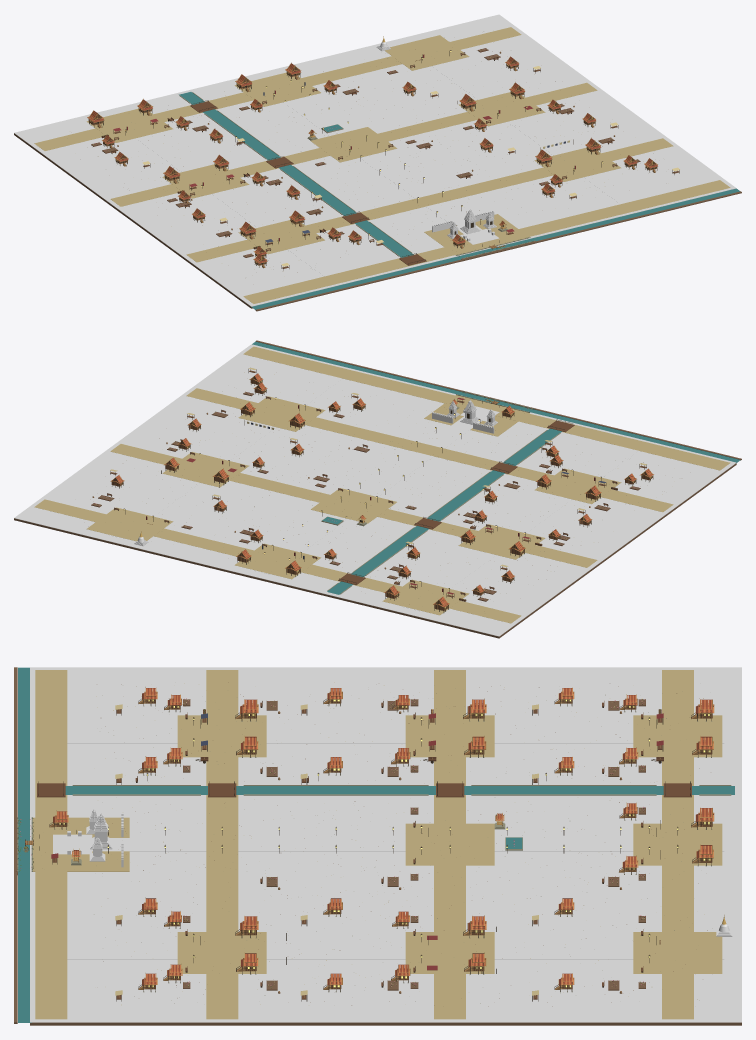
The model's file is lavo.glb.
3 renders of one model, top to bottom at view 1: azimuth 30°, elevation 25°; view 2: azimuth 150°, elevation 25°; view 3: azimuth 270°, elevation 25°, orthographic. The views are drawn at different scales.
Visible parts, largest first — view 1: Expanded ground · meadow, Regional avenues · sand, Regional avenues · paving, City canal · water, River extension · water, District square 4 · sand, District square 6 · sand, District square 7 · sand, District square 1 · sand, District square 3 · sand, District square 2 · sand, District square 0 · sand (+9 smaller); view 2: Expanded ground · meadow, Regional avenues · sand, Regional avenues · paving, City canal · water, Expanded ground · earth, River extension · water, District square 4 · sand, District square 6 · sand, District square 1 · sand, District square 7 · sand, District square 2 · sand, District square 5 · sand (+9 smaller); view 3: Expanded ground · meadow, Regional avenues · sand, Regional avenues · paving, City canal · water, District square 4 · sand, District square 6 · sand, River extension · water, District square 7 · sand, District square 1 · sand, District square 0 · sand, District square 5 · sand, District square 2 · sand (+10 smaller).
Boxes of the visible parts, <box> form: Expanded ground · meadow: <box>14,14,736,306</box>; Regional avenues · sand: <box>34,27,730,303</box>; Regional avenues · paving: <box>105,39,638,276</box>; City canal · water: <box>179,92,413,257</box>; River extension · water: <box>251,188,739,309</box>; District square 4 · sand: <box>310,127,397,162</box>; District square 6 · sand: <box>385,35,469,70</box>; District square 7 · sand: <box>234,72,320,106</box>; District square 1 · sand: <box>534,147,620,181</box>; District square 3 · sand: <box>458,92,545,126</box>; District square 2 · sand: <box>162,164,249,198</box>; District square 0 · sand: <box>238,220,324,254</box>; Expanded ground · meadow: <box>14,344,736,636</box>; Regional avenues · sand: <box>34,346,730,623</box>; Regional avenues · paving: <box>105,374,638,610</box>; City canal · water: <box>327,428,561,594</box>; Expanded ground · earth: <box>14,463,736,638</box>; River extension · water: <box>252,341,740,463</box>; District square 4 · sand: <box>311,488,396,523</box>; District square 6 · sand: <box>86,507,173,541</box>; District square 1 · sand: <box>238,396,325,431</box>; District square 7 · sand: <box>234,543,321,579</box>; District square 2 · sand: <box>458,524,545,559</box>; District square 5 · sand: <box>382,579,469,615</box>; Expanded ground · meadow: <box>30,667,741,1022</box>; Regional avenues · sand: <box>35,670,693,1019</box>; Regional avenues · paving: <box>67,729,724,959</box>; City canal · water: <box>65,786,734,794</box>; District square 4 · sand: <box>405,823,494,865</box>; District square 6 · sand: <box>633,932,722,973</box>; River extension · water: <box>18,667,31,1022</box>; District square 7 · sand: <box>633,823,722,865</box>; District square 1 · sand: <box>177,932,266,973</box>; District square 0 · sand: <box>177,715,266,757</box>; District square 5 · sand: <box>633,715,722,757</box>; District square 2 · sand: <box>405,715,494,757</box>.
Size of the model in its own units: 236 by 10.83 by 204.
